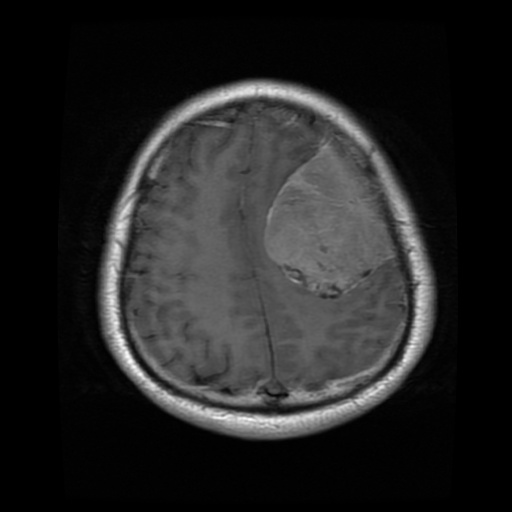meningioma: (265, 138, 395, 296)
